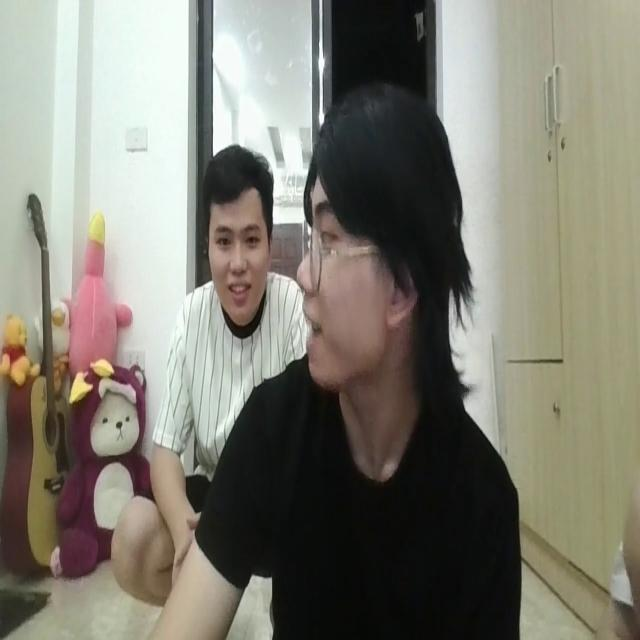extra_person: (154, 139, 308, 418)
student: (160, 72, 520, 640)
